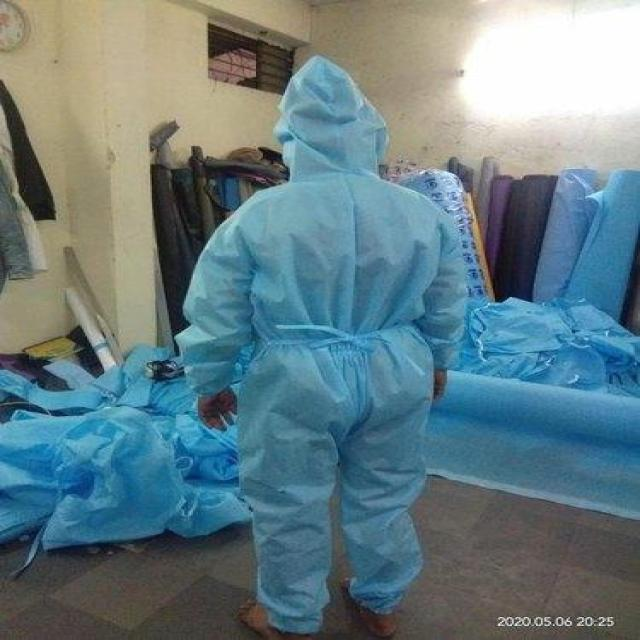Coverall: (185, 53, 470, 633)
